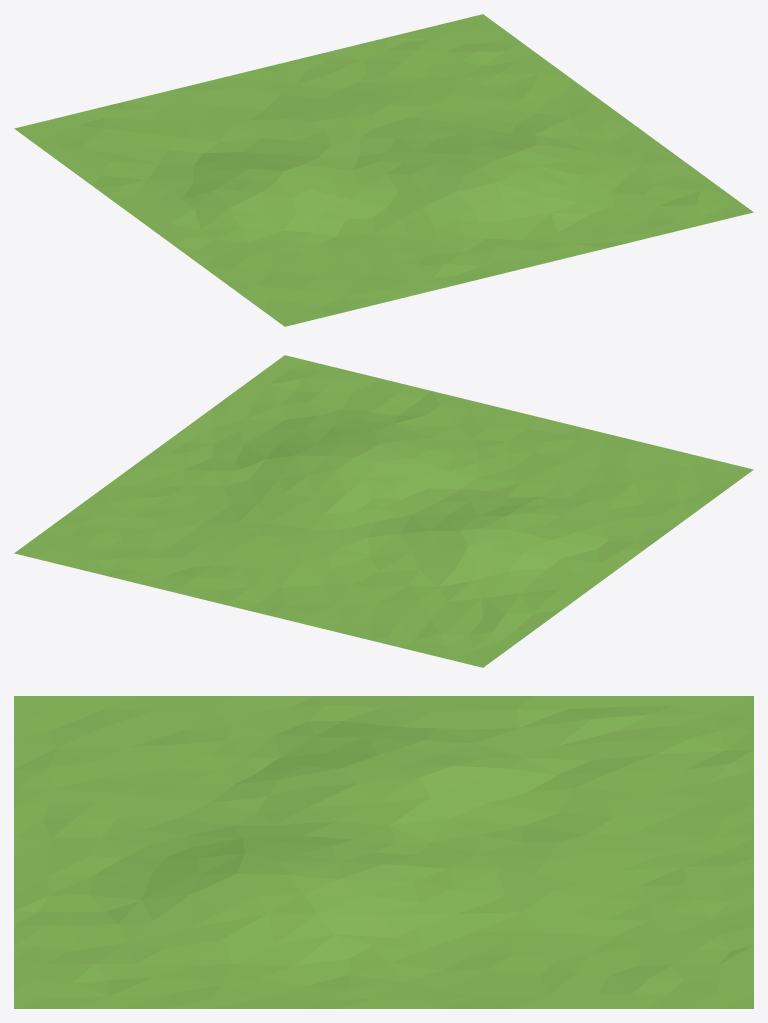
Rendered from MT_Terrain_M_a_04.fbx.
3 views of the same model, one above another, from view 1: azimuth 30°, elevation 25°; view 2: azimuth 150°, elevation 25°; view 3: azimuth 270°, elevation 25° (orthographic). The views are drawn at different scales.
Parts seen in each view (by area): view 1: MT_Terrain_M_a_04; view 2: MT_Terrain_M_a_04; view 3: MT_Terrain_M_a_04.
Boxes of the visible parts, bbox=[...] form: MT_Terrain_M_a_04: bbox=[14, 14, 753, 326]; MT_Terrain_M_a_04: bbox=[14, 355, 753, 667]; MT_Terrain_M_a_04: bbox=[14, 696, 753, 1008].
Size of the model in its own units: 5000 by 151 by 5000.
